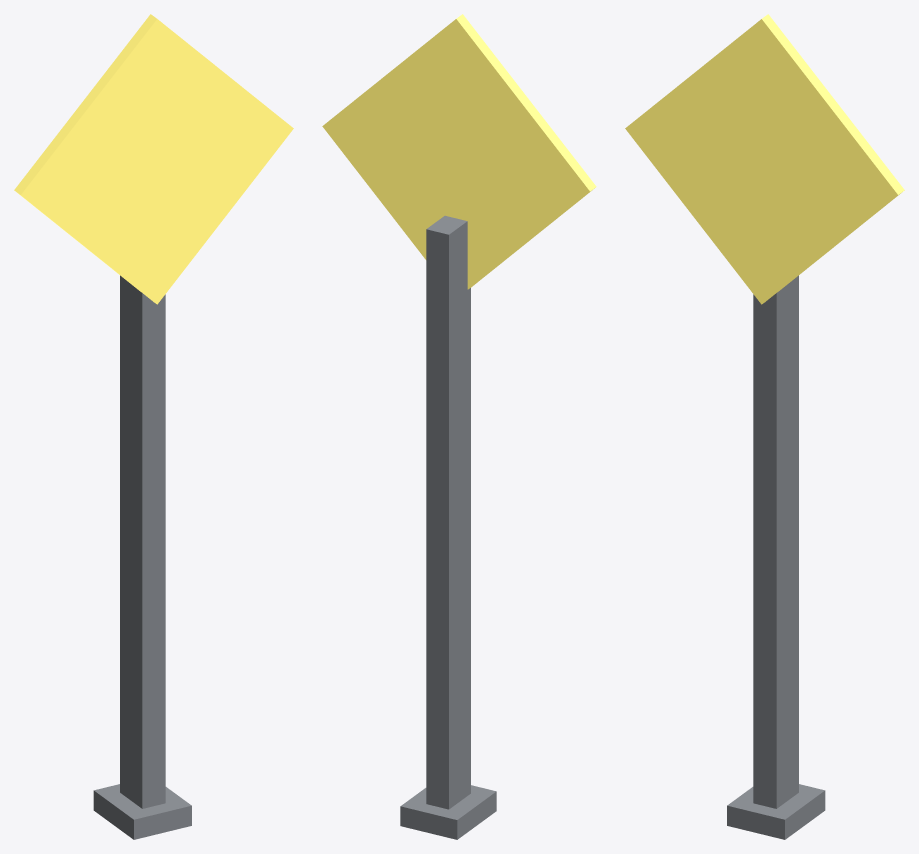
Rendered from road_sign.glb.
3 views of the same model, side by side, from view 1: azimuth 30°, elevation 25°; view 2: azimuth 150°, elevation 25°; view 3: azimuth 330°, elevation 25° (orthographic).
Parts seen in each view (by area): view 1: panel, post, base; view 2: panel, post, base; view 3: panel, post, base.
Boxes of the visible parts, bbox=[...] form: panel: bbox=[14, 14, 293, 304]; post: bbox=[120, 275, 165, 808]; base: bbox=[93, 784, 191, 839]; panel: bbox=[322, 14, 596, 289]; post: bbox=[426, 215, 470, 809]; base: bbox=[400, 785, 496, 839]; panel: bbox=[625, 14, 904, 304]; post: bbox=[753, 275, 798, 808]; base: bbox=[727, 784, 825, 839].
Bounding box in the file's own units: 0.7071 × 2 × 0.18.
